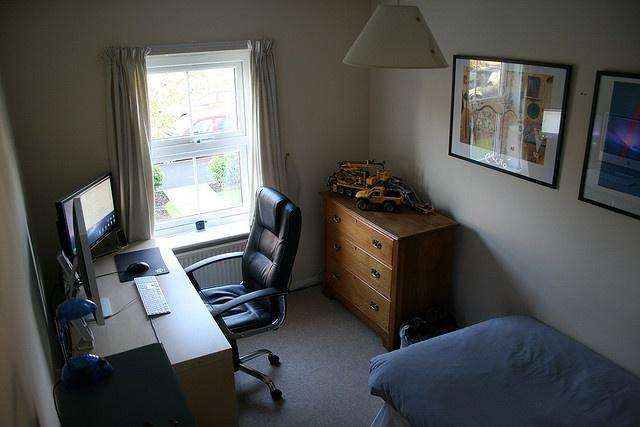AIO PC-Monitor-TV: (54, 169, 118, 263)
Kursi: (182, 186, 301, 399)
Meja: (69, 235, 233, 374)
